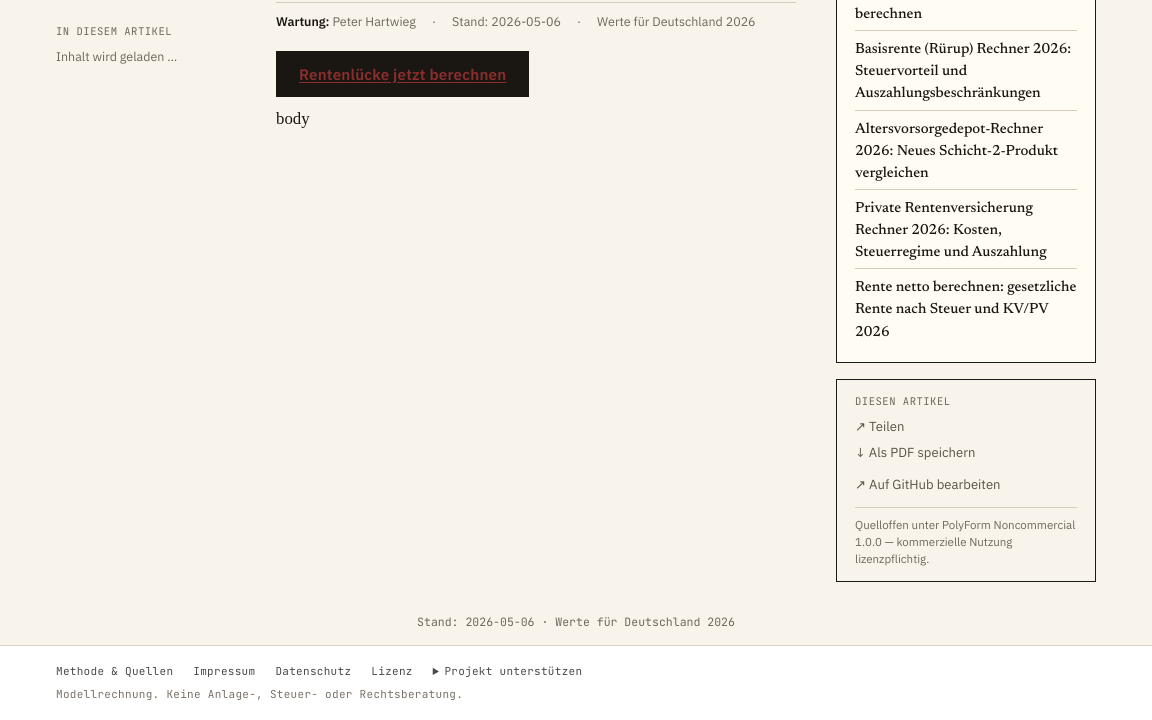
ArticleLayout — Teilen + Als PDF speichern (R4.1) › shows fallback toast with "Adresszeile kopieren" copy when both share API and clipboard are unavailable
(page scrolled)
Click the button with class "article-aside-action-btn" showing "↗ Teilen".
click(966, 427)  # box [855,416,1077,438]
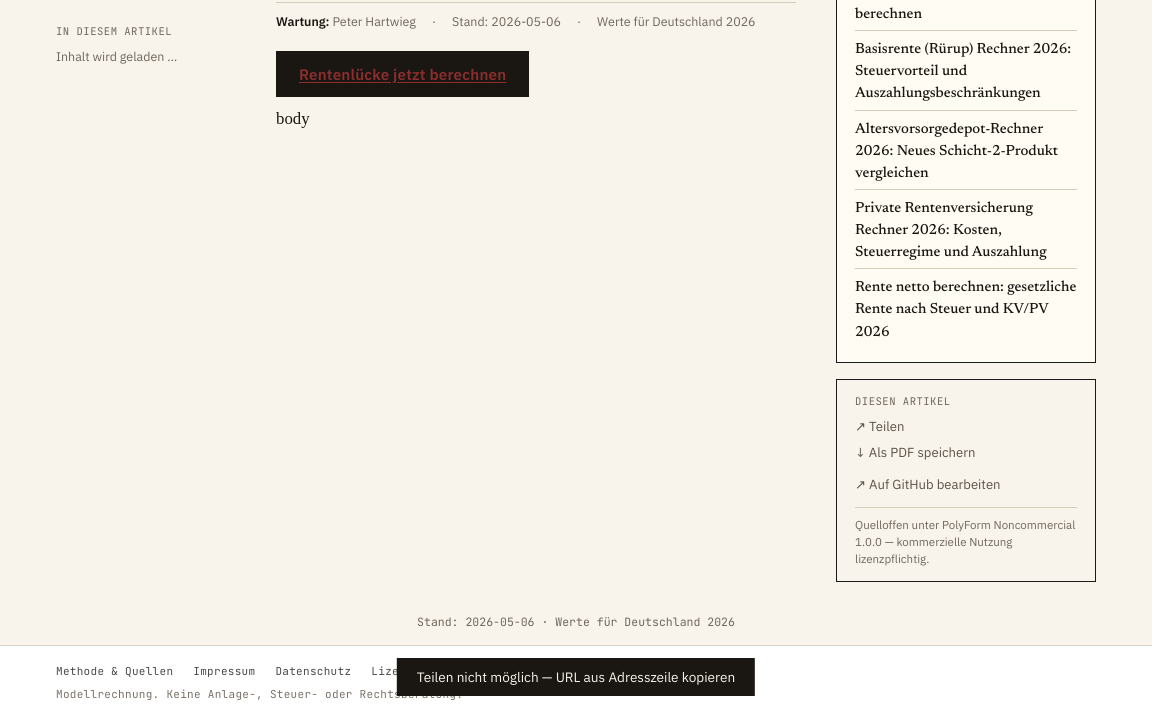
Expected: the message "Teilen nicht möglich — URL aus Adresszeile kopieren" is shown, [397,658,755,696]
Expected: the message with class "article-aside-toast" shows "Adresszeile kopieren", [417,668,735,686]
